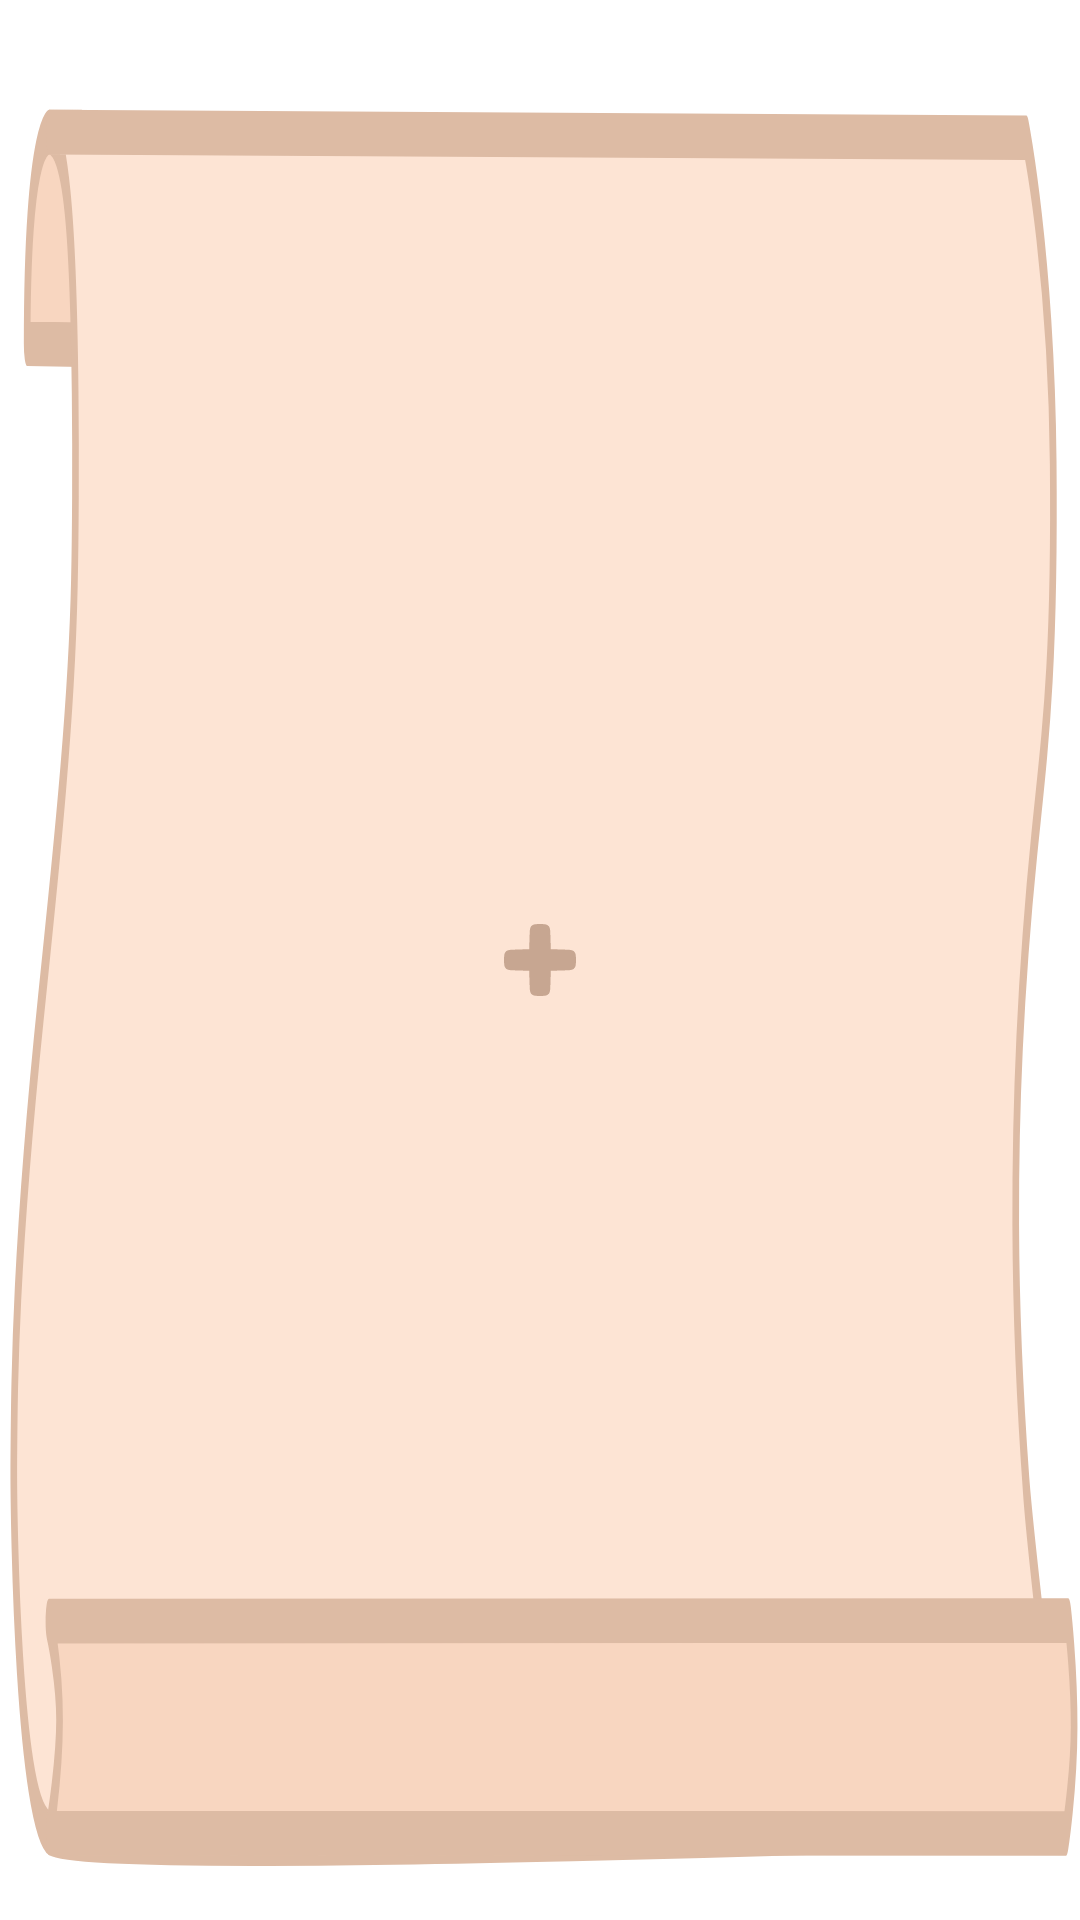

Point at icon controls on the screen. Image size 1080w x 1920h, points as (x,y).
add: (540,960)
